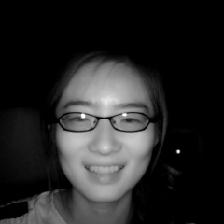happy: (42, 46, 176, 213)
